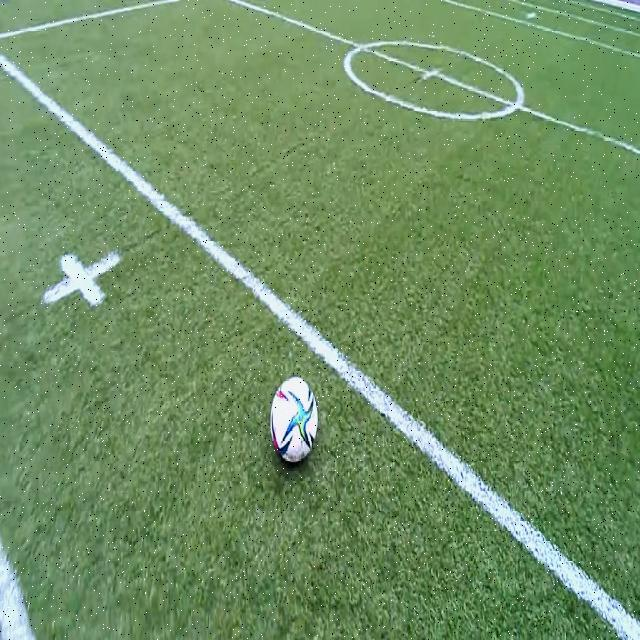ball: (271, 376, 317, 463)
